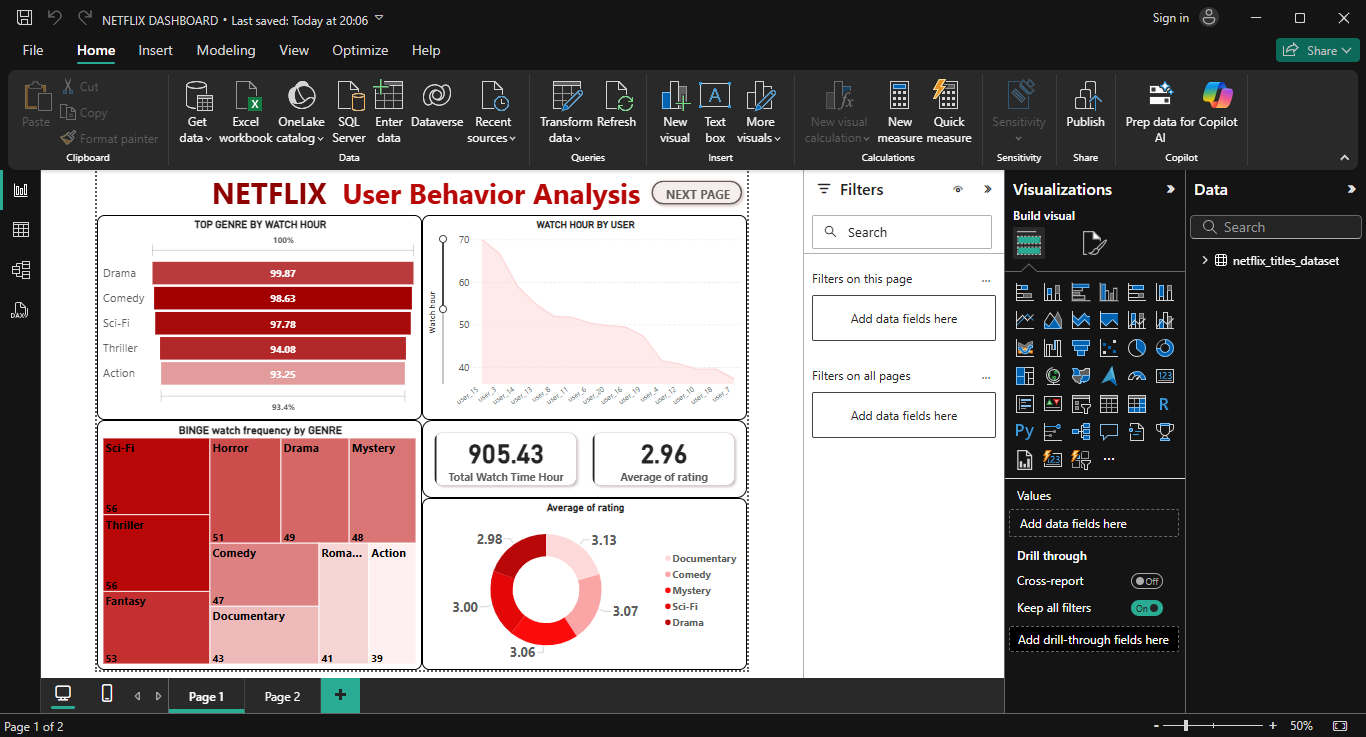

This screenshot's page, from the dashboard's own definition file:
{"tool":"powerbi","page":{"name":"Page 1","canvas":[1300,1000],"ordinal":0},"visuals":[{"type":"areaChart","title":"WATCH HOUR BY USER ","fields":{"Category":["netflix_real_titles_dataset.user_id"],"Y":["Sum(netflix_real_titles_dataset.sum_wth)"]},"box":[650,90,650,410],"z":0},{"type":"funnel","title":"TOP GENRE BY WATCH HOUR ","fields":{"Category":["netflix_real_titles_dataset.genre"],"Y":["Sum(netflix_real_titles_dataset.sum_wth)"]},"box":[0,90,650,410],"z":1000},{"type":"treemap","title":"BINGE watch frequency by GENRE ","fields":{"Group":["netflix_real_titles_dataset.genre"],"Values":["CountNonNull(netflix_real_titles_dataset.is_binge_watch)"]},"box":[0,500,650,500],"z":2000},{"type":"donutChart","title":"Average of rating ","fields":{"Category":["netflix_real_titles_dataset.genre"],"Y":["Avg(netflix_real_titles_dataset.rating)"]},"box":[650,656,650,344],"z":3000},{"type":"cardVisual","fields":{"Data":["Sum(netflix_real_titles_dataset.sum_wth)","Avg(netflix_real_titles_dataset.rating)"]},"box":[650,500,650,156],"z":4000},{"type":"textbox","box":[0,0,1300,90],"z":5000},{"type":"actionButton","box":[1100,11.2,200,66.2],"z":7000}]}

Visuals, with their boxes on the page's 1300x1000 design canvas (x1, y1, x2, y2). These are canvas units, not pixel positions in the 1366x737 screenshot, which may show the page scaled, cropped or inside an application window:
"WATCH HOUR BY USER " areaChart: 650:90:1300:500
"TOP GENRE BY WATCH HOUR " funnel: 0:90:650:500
"BINGE watch frequency by GENRE " treemap: 0:500:650:1000
"Average of rating " donutChart: 650:656:1300:1000
cardVisual - Sum(netflix_real_titles_dataset.sum_wth) x Avg(netflix_real_titles_dataset.rating): 650:500:1300:656
textbox: 0:0:1300:90
actionButton: 1100:11:1300:77
